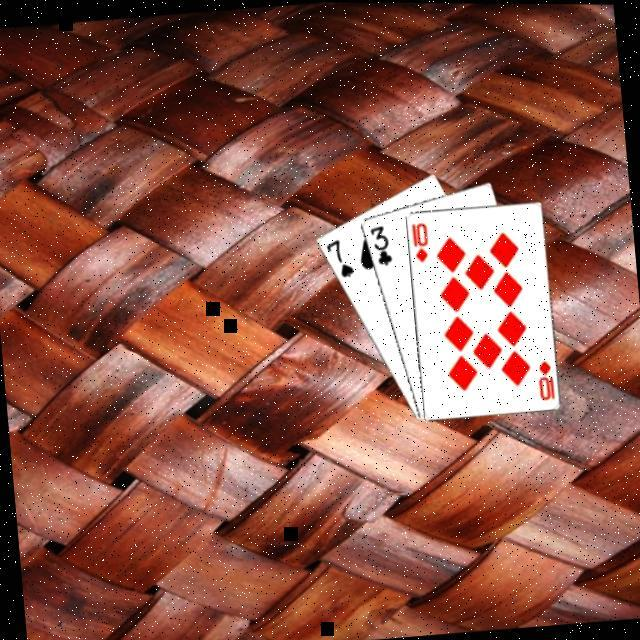10D: (534, 352, 558, 400), (409, 216, 433, 262)
3C: (368, 219, 397, 266)
7S: (323, 232, 359, 279)
